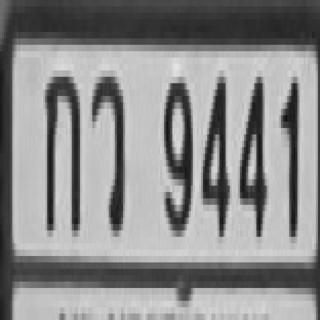A01: (43, 64, 78, 224)
A37: (90, 70, 123, 224)
N01: (279, 70, 298, 230)
N04: (238, 70, 265, 230), (201, 70, 228, 230)
N09: (162, 70, 191, 230)
